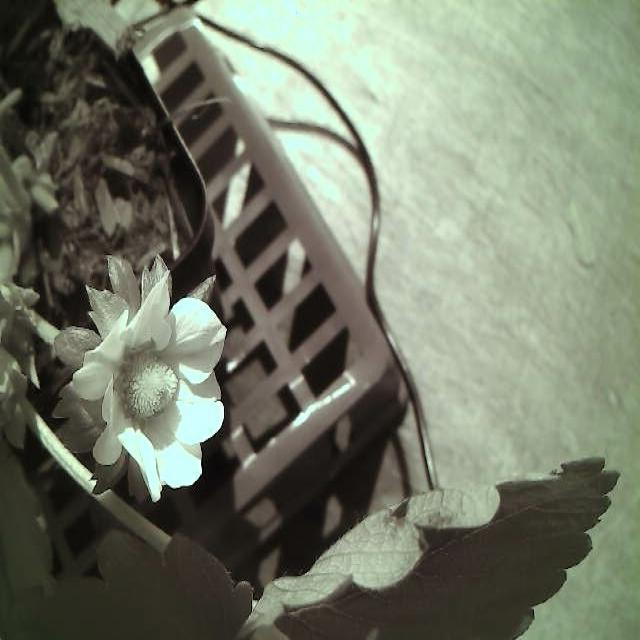flower: (72, 240, 228, 524)
